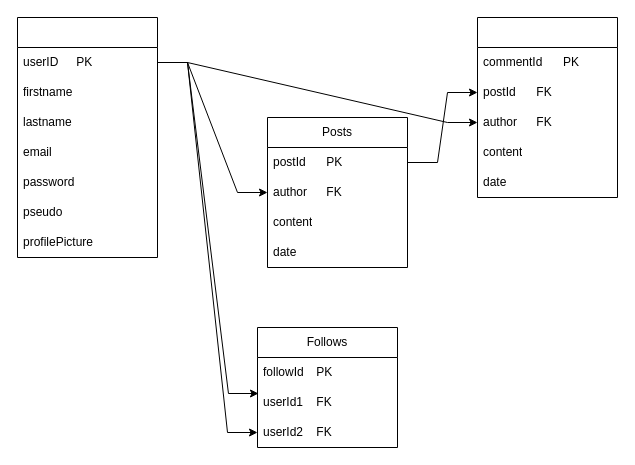
The diagram is 635 pixels wide and 465 high, and some of its shapes have lost their labels. Each missing label, with the box of its shape:
Comments: (476, 16, 618, 198)
Users: (16, 16, 158, 258)
